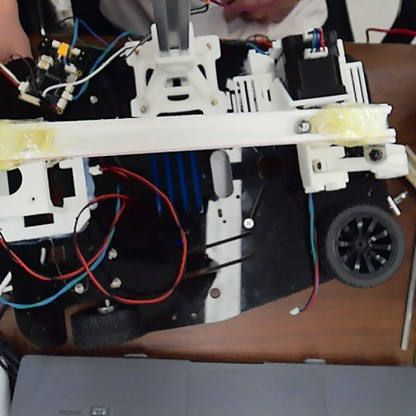ironball: (291, 114, 313, 135)
